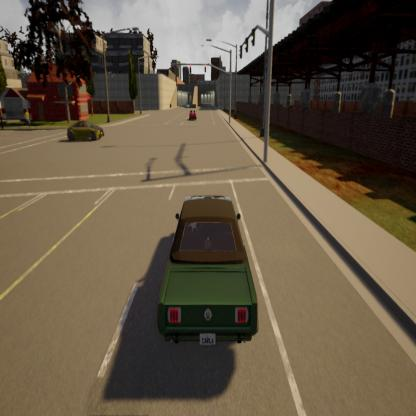Cars: (151, 188, 265, 356), (66, 119, 109, 146), (188, 107, 200, 124), (185, 101, 191, 108)
Pedestrian: (23, 104, 32, 129)
